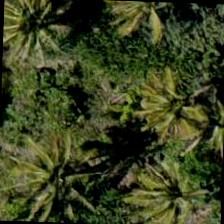Kelapa_Sawit: (1, 130, 94, 222), (134, 66, 223, 161), (121, 150, 215, 223), (2, 0, 79, 64), (97, 0, 190, 52)
